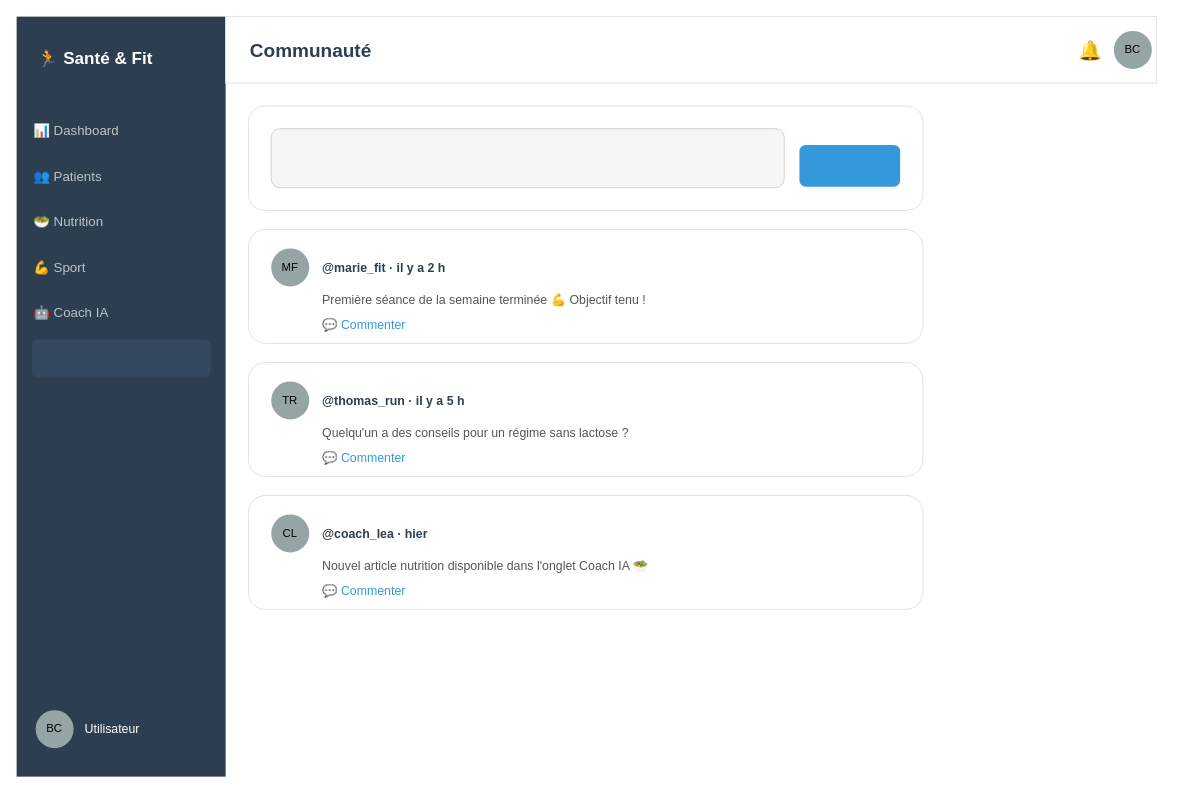
This 1177x793 diagram has some shape labels left out. The centre of each missing label's shape, as x and y in pixels:
Nouvelle publication...: (527,158)
Publier: (849,165)
💬 Communauté: (120,358)
